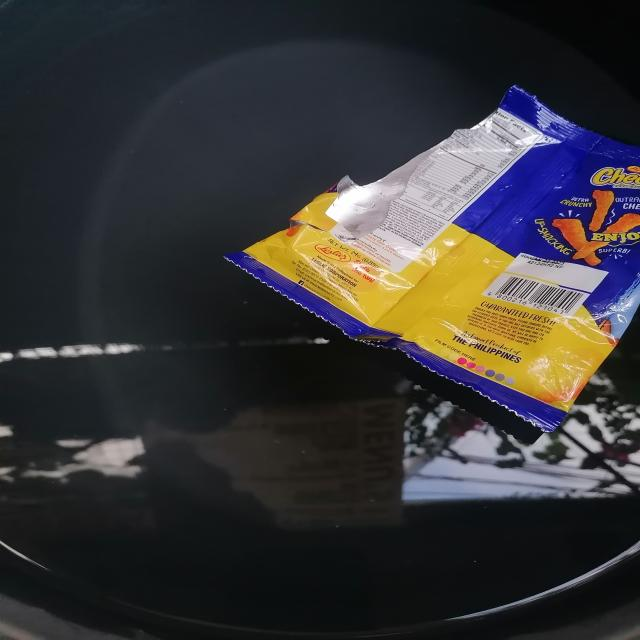Plastic Wrapper: (227, 86, 640, 431)
